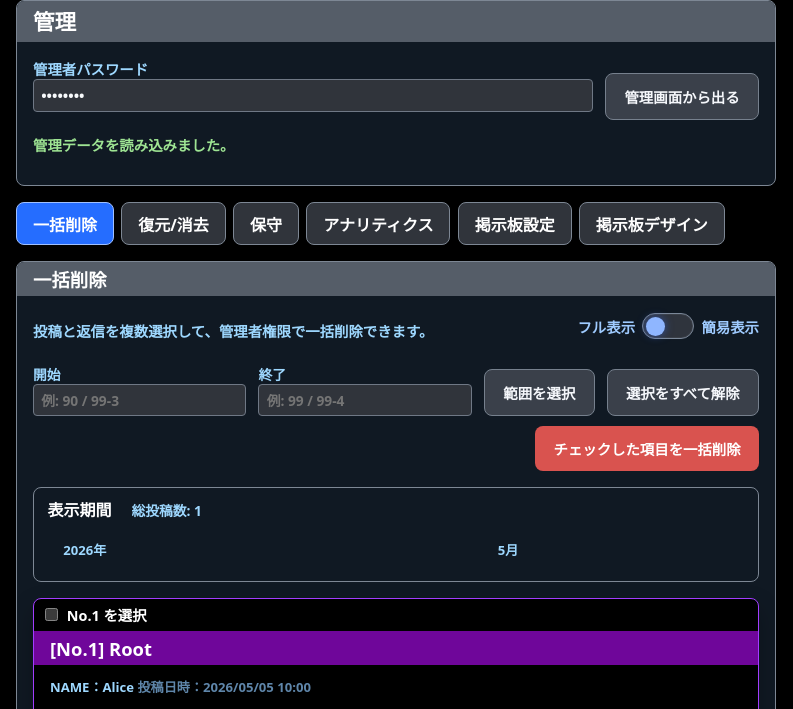
Test case: AdminPage › rejects mixed parent and reply range notation
The width and height of the screenshot is (793, 709).
Type "1" into the field labelled "開始" at (140, 400), box top-left (33, 384), bottom-right (246, 416)
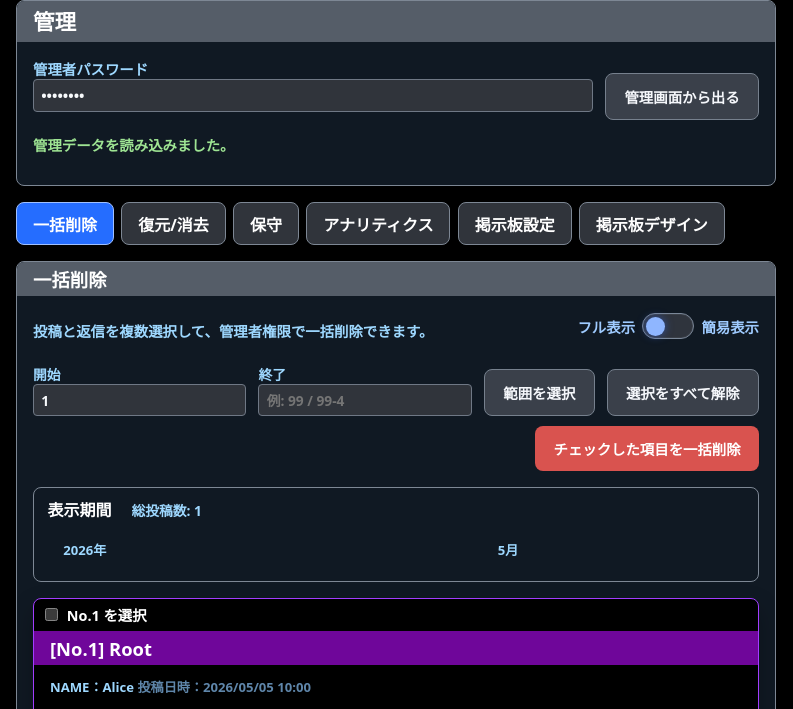
Type "1-1" into the field labelled "終了" at (365, 400), box top-left (258, 384), bottom-right (472, 416)
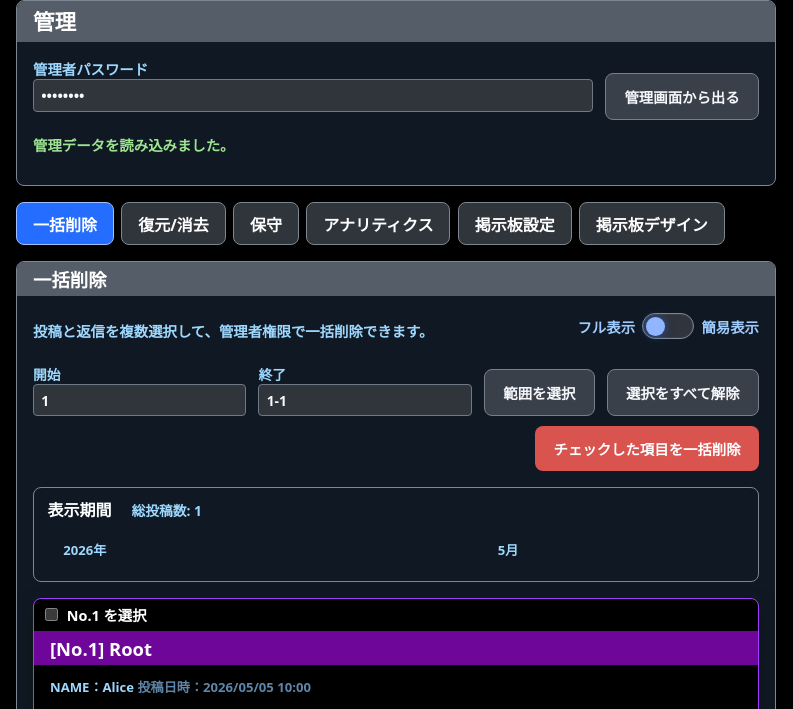
Click the button "範囲を選択" at (539, 393), box top-left (484, 369), bottom-right (595, 416)
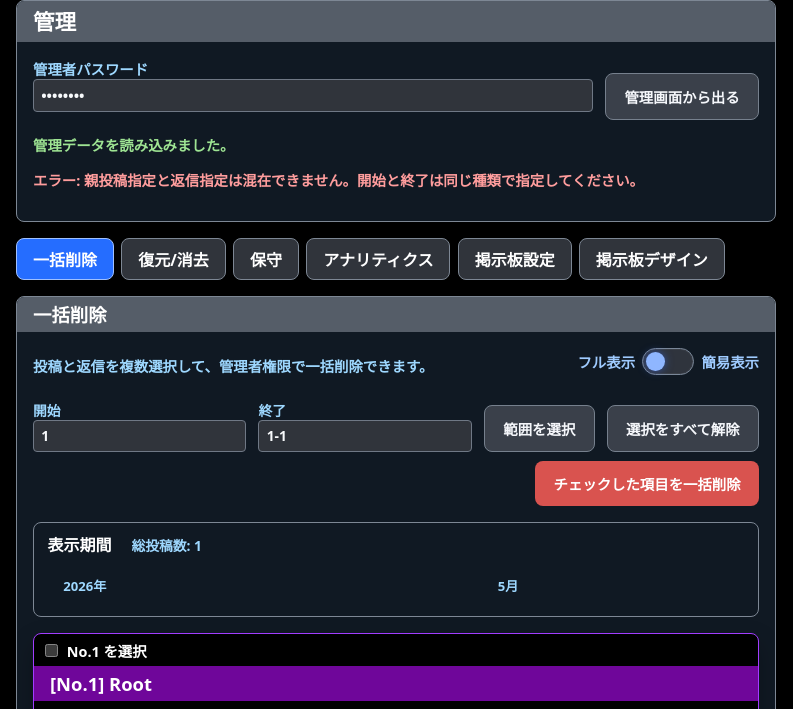
Check: the checkbox labelled "No.1 を選択" is not checked, box top-left (45, 644), bottom-right (58, 657)
Check: the text "エラー: 親投稿指定と返信指定は混在できません。開始と終了は同じ種類で指定してください。" is shown, box top-left (33, 171), bottom-right (644, 190)
